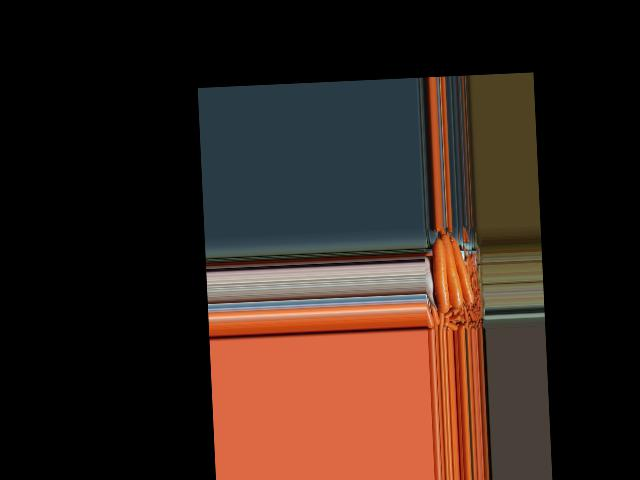carrot: (432, 235, 454, 314)
